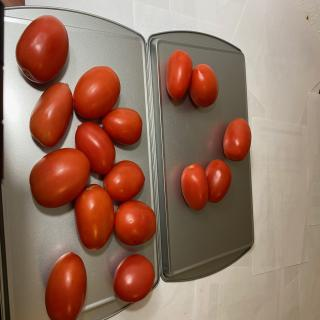Tomato: (15, 15, 69, 84), (30, 148, 90, 208), (29, 82, 73, 148), (45, 251, 87, 320), (74, 184, 114, 250), (73, 65, 121, 118), (74, 121, 116, 175), (113, 254, 155, 303), (114, 200, 156, 246), (103, 160, 145, 201), (101, 107, 142, 145), (189, 63, 219, 108), (166, 50, 192, 100), (181, 163, 208, 211), (223, 118, 251, 162), (205, 159, 232, 203)
